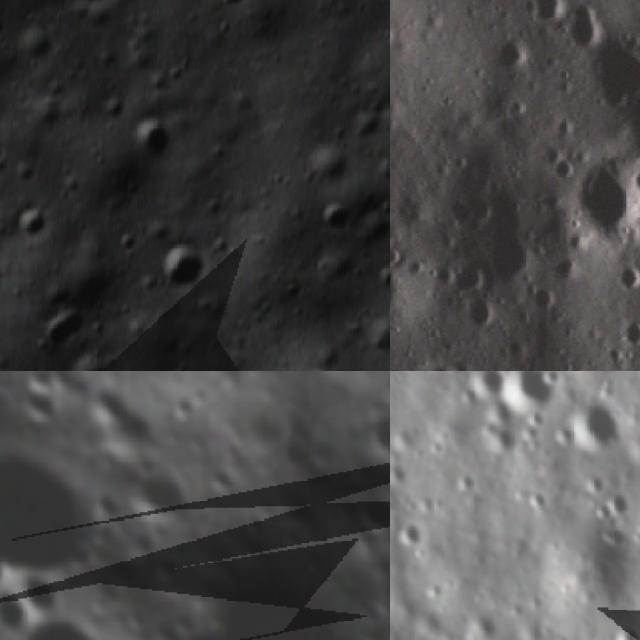crater: (0, 413, 120, 606), (118, 448, 212, 543), (557, 139, 640, 242), (20, 285, 100, 367), (578, 16, 640, 117), (139, 230, 219, 306), (566, 394, 632, 461), (119, 109, 179, 170), (301, 192, 366, 247), (16, 563, 74, 623), (497, 371, 563, 422), (42, 599, 124, 640), (548, 0, 609, 55), (347, 480, 390, 551), (28, 0, 145, 26), (353, 399, 390, 476), (448, 246, 499, 298), (486, 27, 536, 80), (15, 371, 72, 415), (390, 249, 416, 329), (514, 0, 568, 35), (461, 290, 497, 333), (55, 348, 118, 371), (598, 524, 636, 558), (463, 371, 508, 399), (611, 255, 640, 295), (414, 353, 474, 371), (616, 309, 640, 353), (396, 517, 424, 550), (607, 618, 640, 640), (592, 498, 618, 524), (390, 462, 413, 491), (454, 473, 478, 499), (526, 488, 548, 516), (585, 471, 606, 495)
